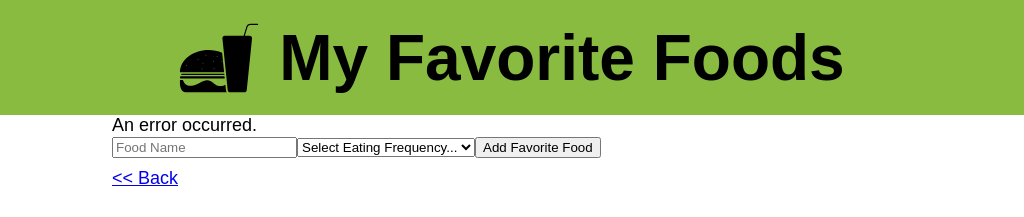
Test: Adding Favorite Foods to a User › when the user does not fill in the Food Name › shows an error
Fill in only Eating Frequency
Select "Daily" in the dropdown at coordinates (386, 148), box [297,138,475,157]
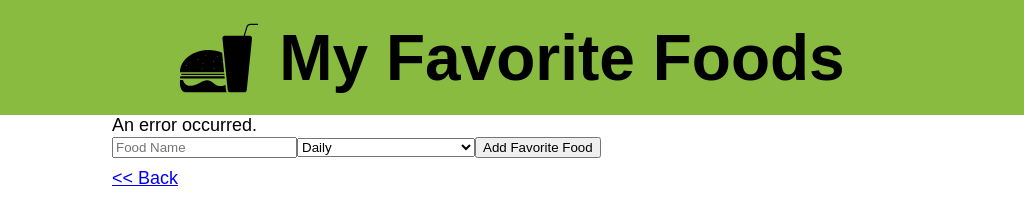
Submit form
Click the button "Add Favorite Food" at coordinates (538, 148), box [475,137,601,158]
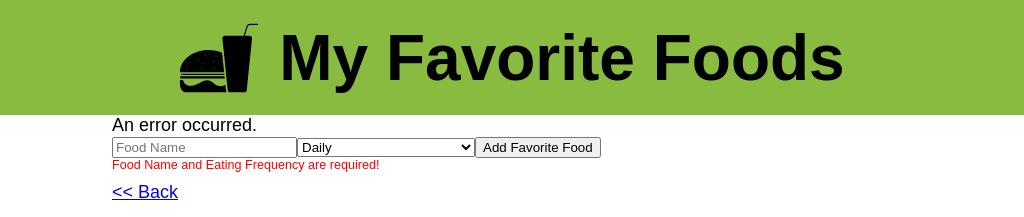
Expected: the text "Food Name and Eating Frequency are required!" is shown, [112,158,379,172]
